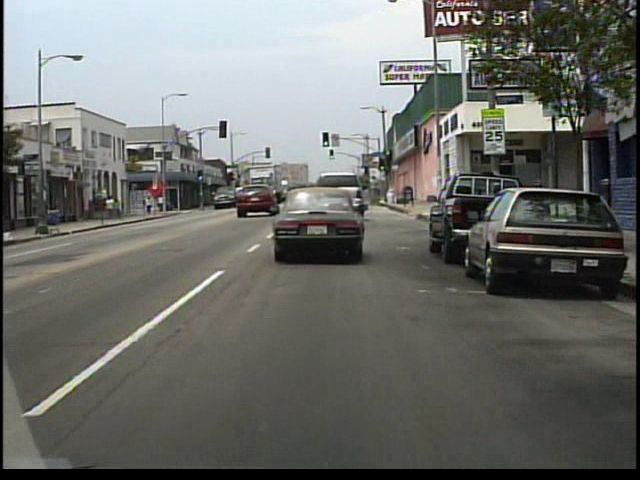person: (107, 195, 117, 220), (145, 195, 154, 215), (115, 197, 122, 219)
